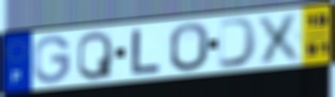D: (216, 16, 261, 70)
G: (32, 34, 73, 85)
L: (129, 27, 163, 76)
O: (167, 21, 210, 73)
Q: (75, 30, 114, 82)
X: (256, 10, 306, 66)
